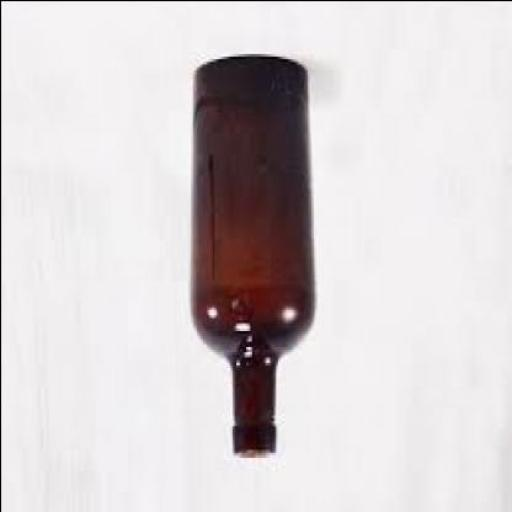glass: (186, 58, 310, 456)
